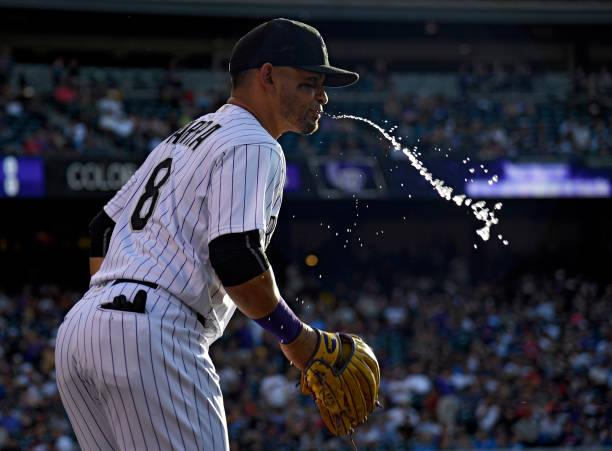Spitting: (224, 7, 404, 151)
